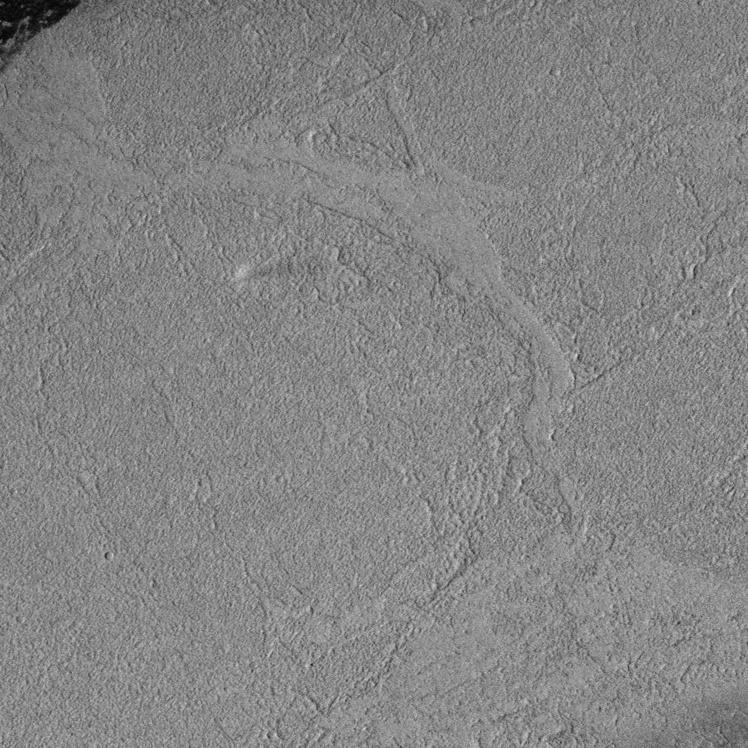dust_devil: (231, 257, 320, 286)
